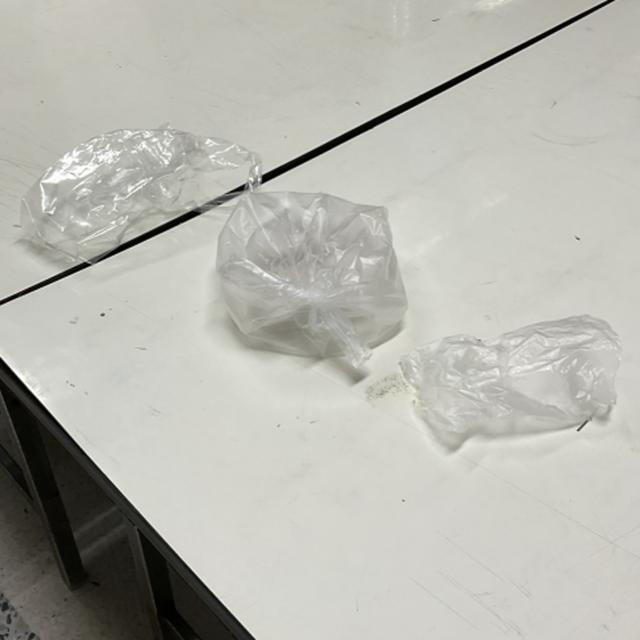Single-layer Plastic: (216, 191, 408, 367), (21, 125, 261, 261), (400, 315, 621, 448)
